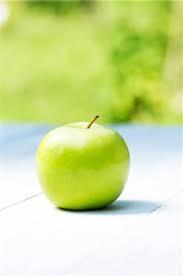Apple: (36, 119, 133, 215)
